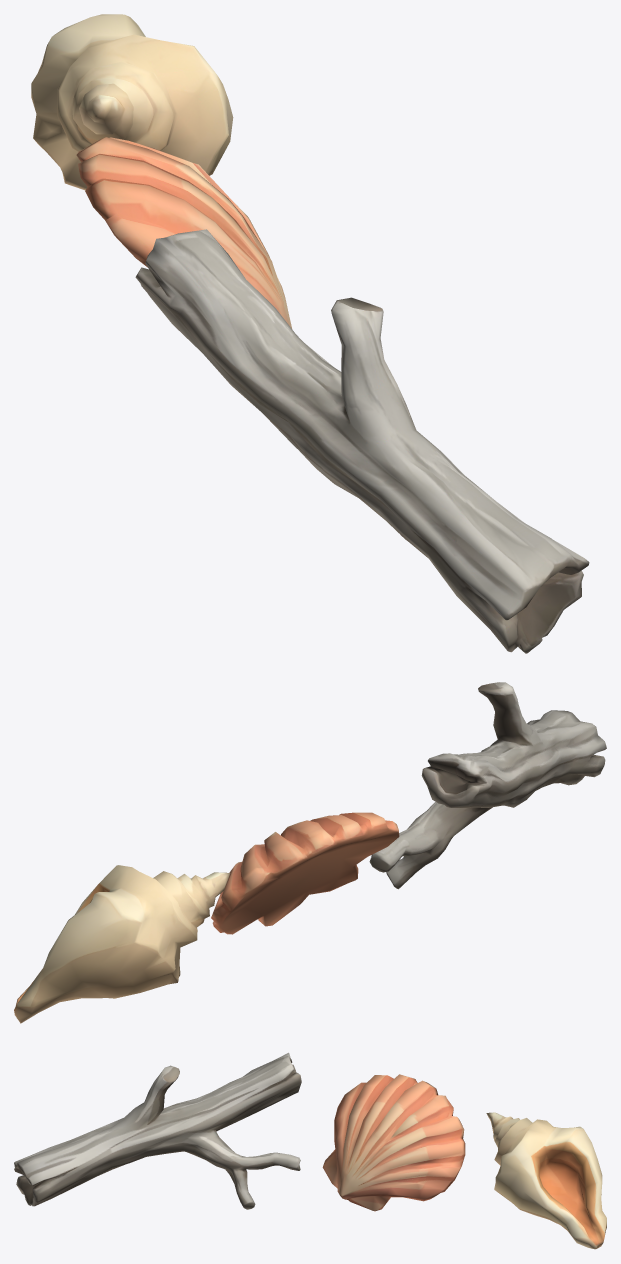
3 views of the same model, one above another, from view 1: azimuth 30°, elevation 25°; view 2: azimuth 150°, elevation 25°; view 3: azimuth 270°, elevation 25° (orthographic). The views are drawn at different scales.
Parts seen in each view (by area): view 1: tripo_node_1990af59-ecb2-4cf0-9a60-301b3c82d9dc; view 2: tripo_node_1990af59-ecb2-4cf0-9a60-301b3c82d9dc; view 3: tripo_node_1990af59-ecb2-4cf0-9a60-301b3c82d9dc.
Boxes of the visible parts, x1,y1,x2,y2 form: tripo_node_1990af59-ecb2-4cf0-9a60-301b3c82d9dc: [31, 14, 589, 653]; tripo_node_1990af59-ecb2-4cf0-9a60-301b3c82d9dc: [14, 682, 606, 1023]; tripo_node_1990af59-ecb2-4cf0-9a60-301b3c82d9dc: [14, 1052, 606, 1249].
Bounding box in the file's own units: 0.3523 × 0.2368 × 1.
1 material, 1 textured.
